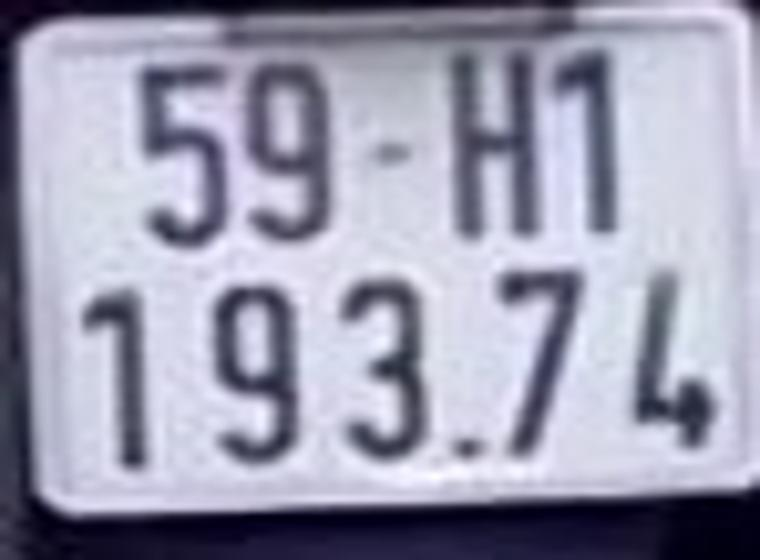-: (364, 142, 424, 182)
.: (454, 429, 488, 463)
1: (556, 38, 629, 240), (78, 281, 146, 474)
3: (328, 277, 429, 461)
4: (621, 270, 720, 461)
5: (127, 51, 230, 255)
7: (488, 260, 593, 475)
9: (237, 55, 337, 245), (208, 274, 297, 460)
H: (447, 49, 552, 240)
